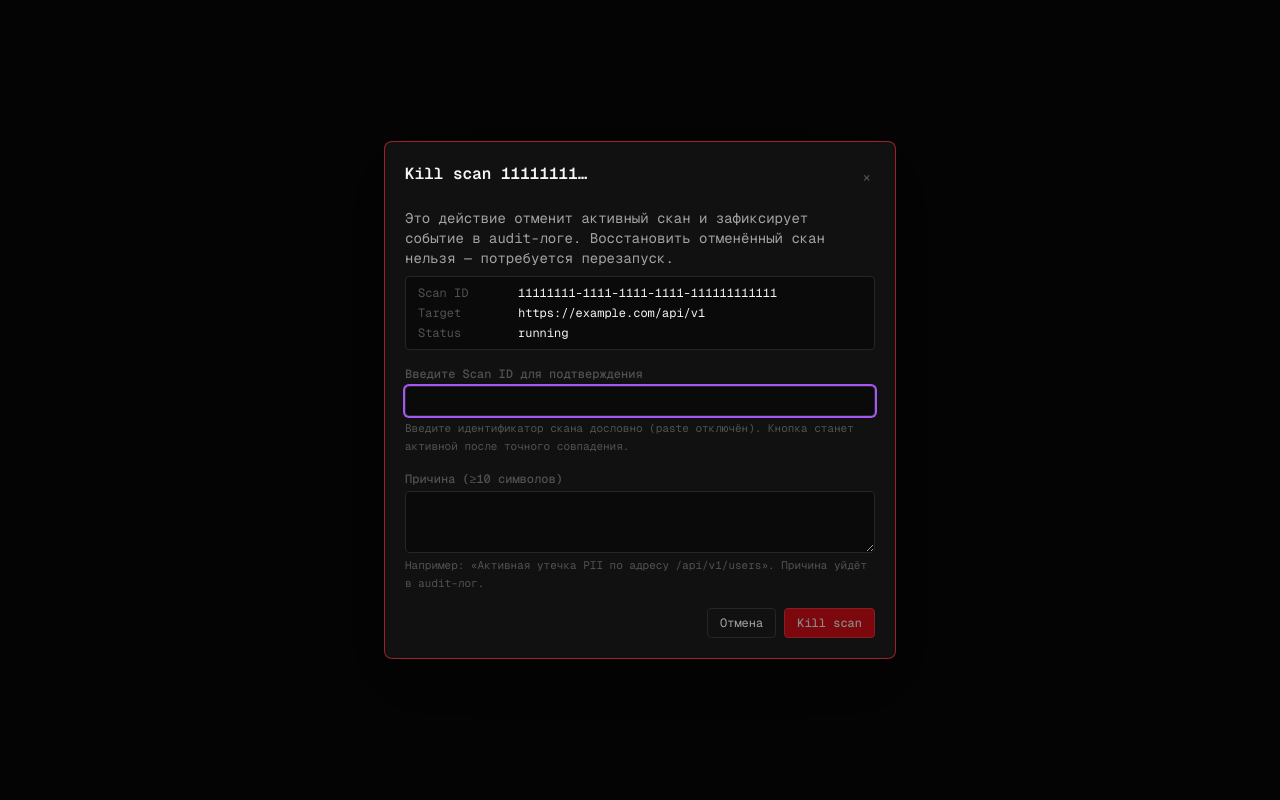
PerScanKillSwitchDialog — submission › renders a closed-taxonomy RU error inline on failure (no stack trace)
This screenshot has width=1280, height=800.
In the field with test id "kill-scan-dialog-input": (640,401) [405, 386, 875, 416], type "11111111-1111-1111-1111-111111111111"
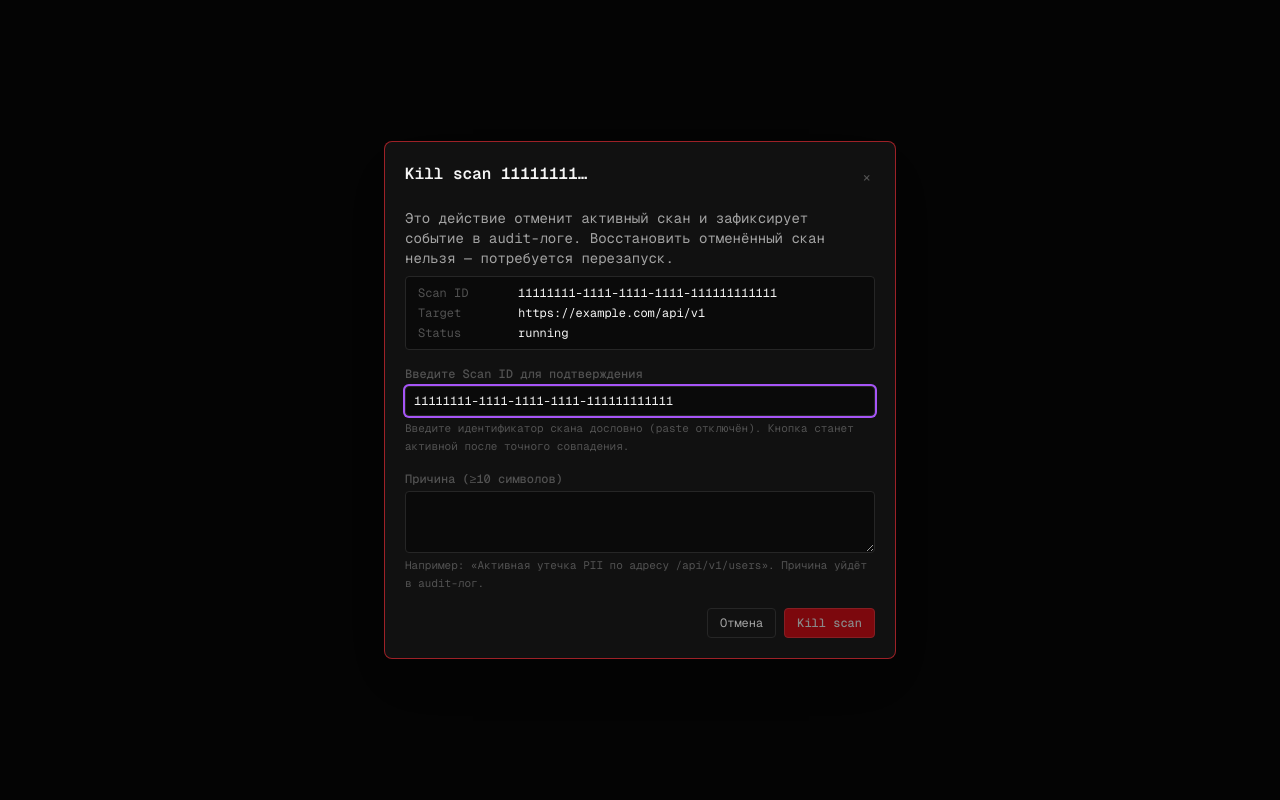
In the text box with test id "kill-scan-dialog-reason": (640,522) [405, 491, 875, 553], type "PII leak at /api/v1/users"
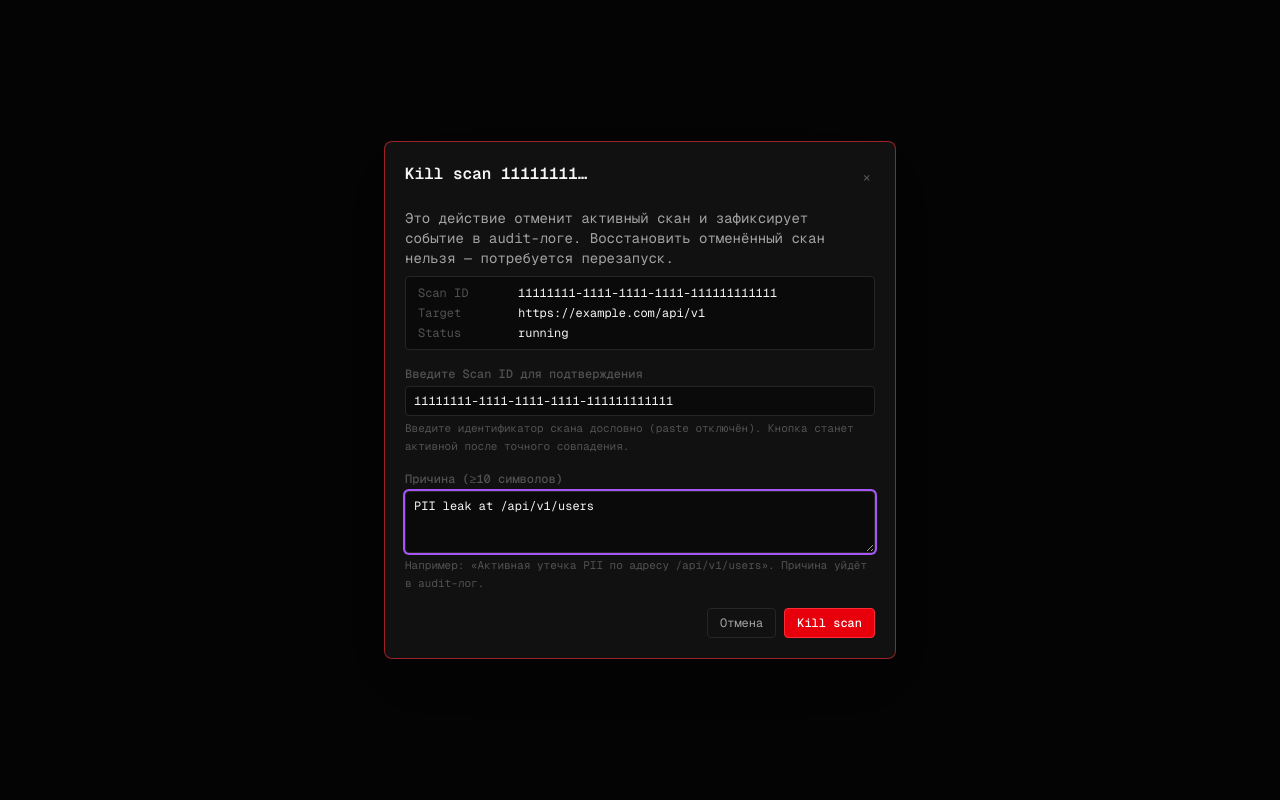
Click the button with test id "kill-scan-dialog-confirm": (830,623) [784, 608, 875, 638]
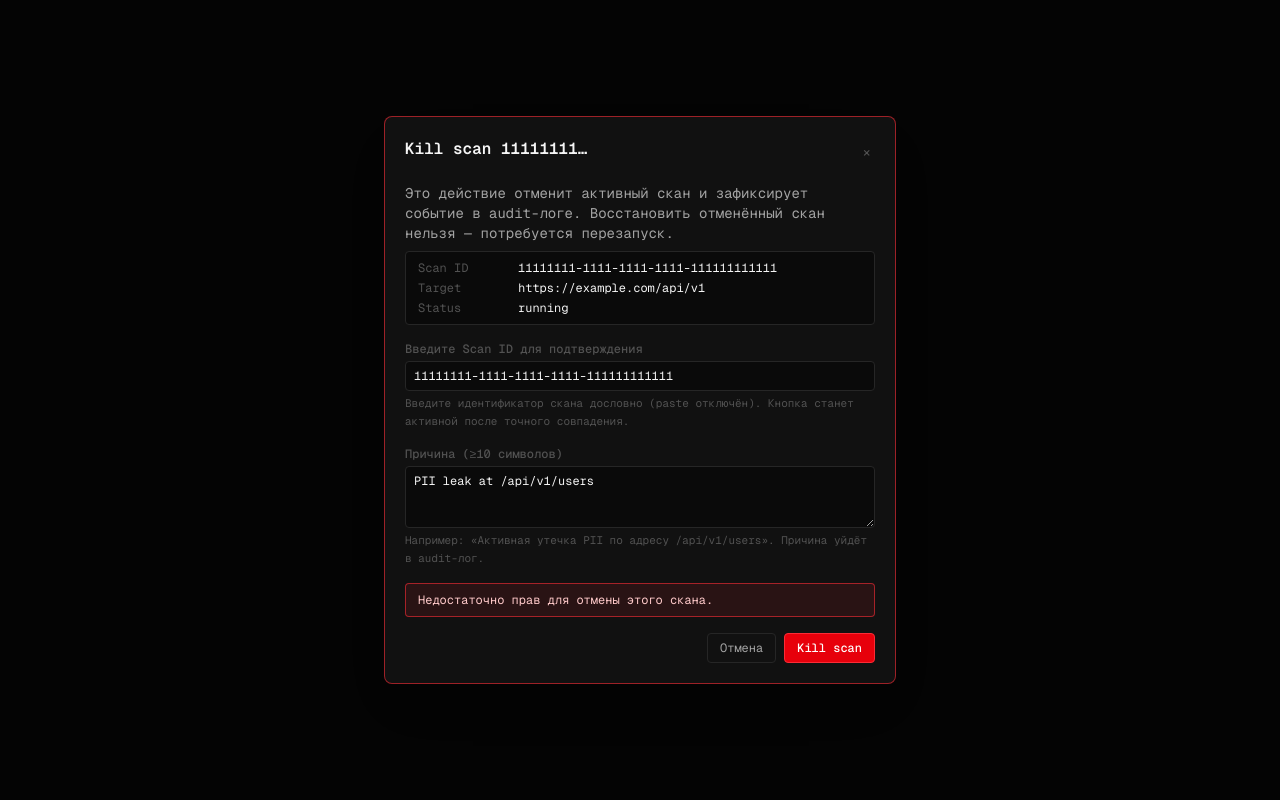
Expected: the message with test id "kill-scan-dialog-error" shows "Недостаточно прав", [418, 592, 713, 608]
